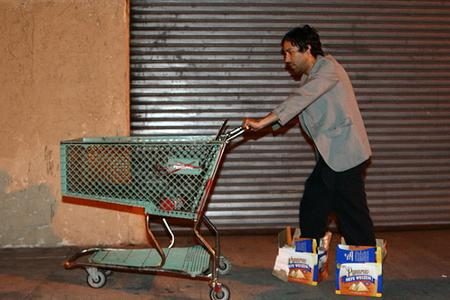person: (238, 25, 384, 297)
